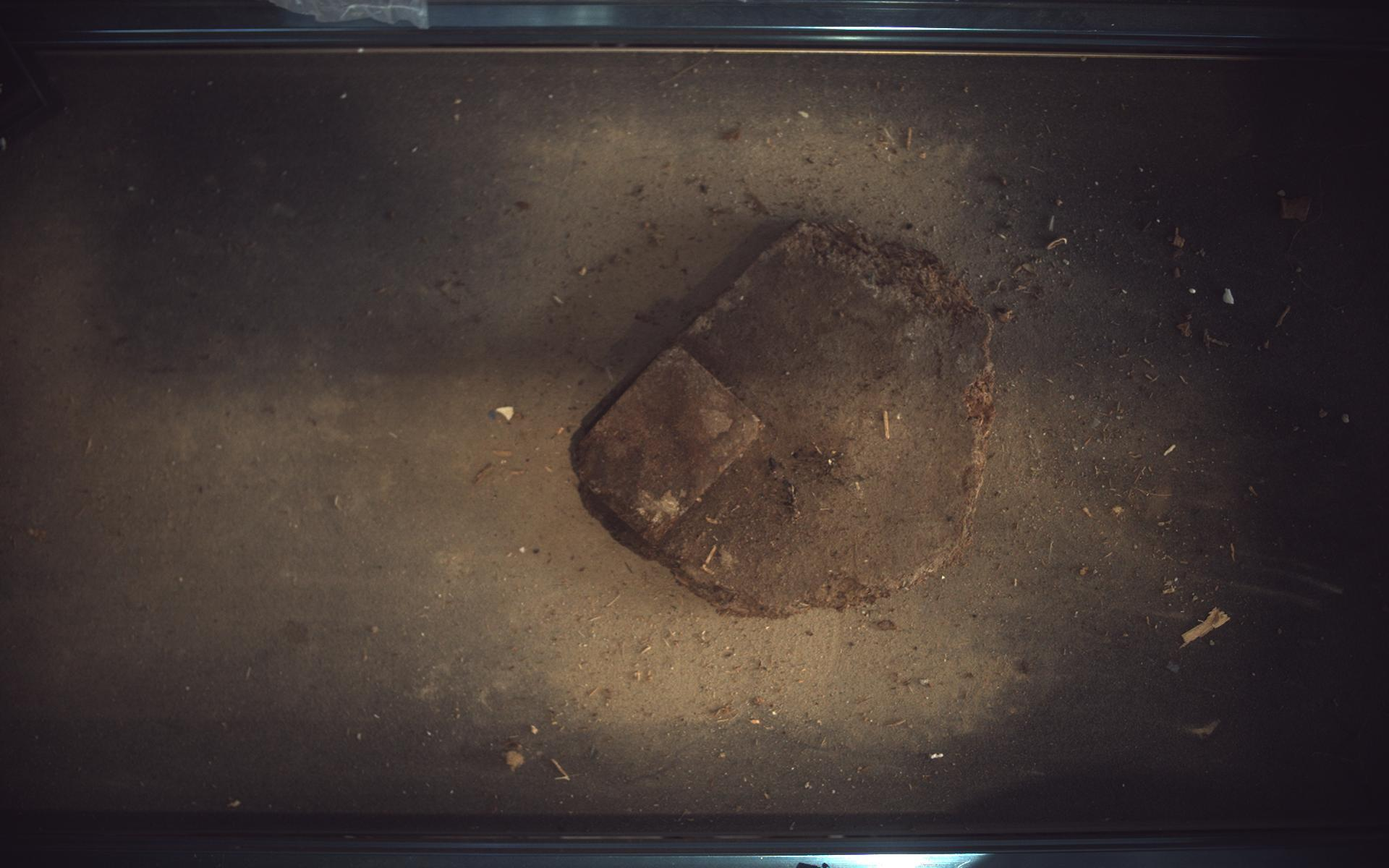wood: (572, 222, 996, 617)
